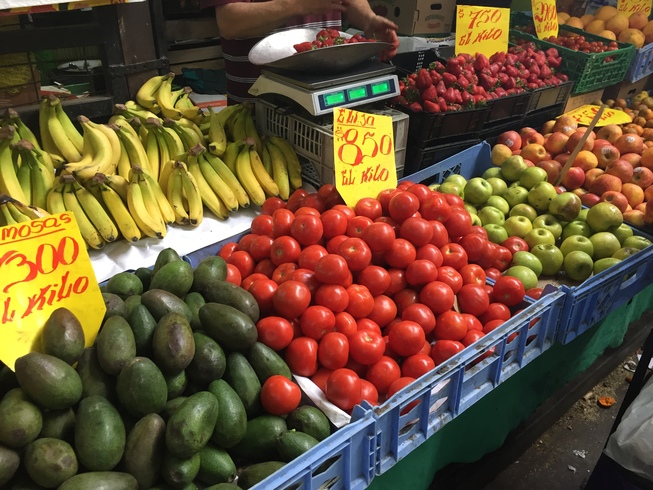precio: (1, 210, 108, 377), (328, 106, 404, 215), (453, 2, 506, 59), (564, 97, 631, 133), (531, 1, 563, 44)
